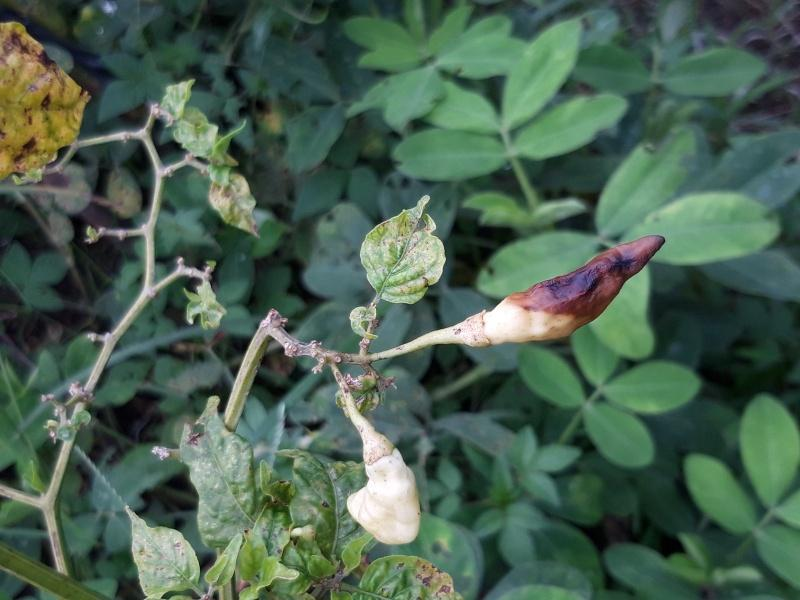antraknosa: (483, 233, 664, 343)
cabai_normal: (345, 449, 420, 546)
